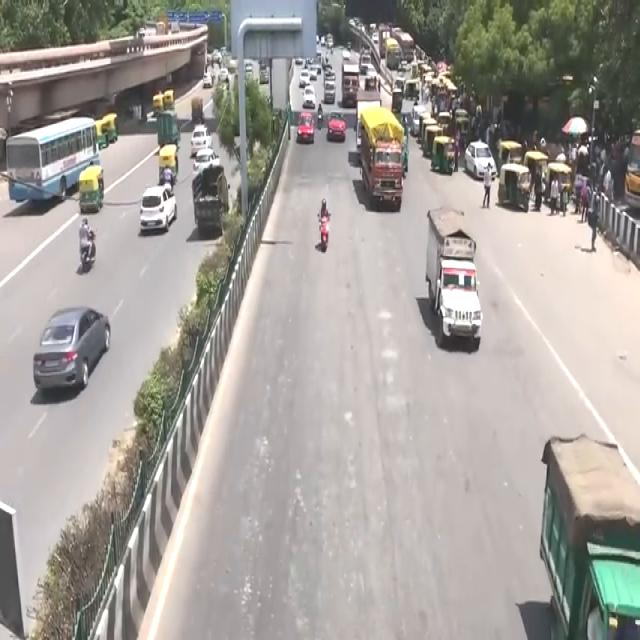BUS: (8, 116, 104, 212)
MOTORCYCLE: (320, 218, 330, 254)
TRUCK: (540, 434, 638, 639), (428, 212, 484, 353), (357, 104, 406, 210)
